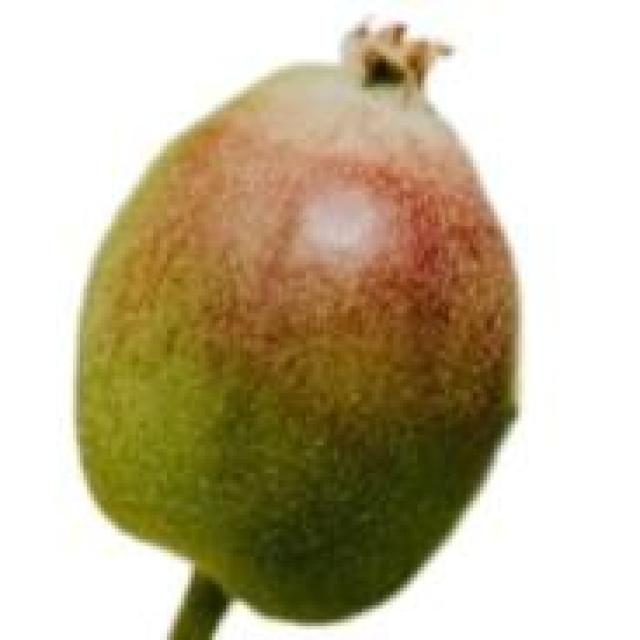Rotten Apple: (70, 0, 528, 640)
